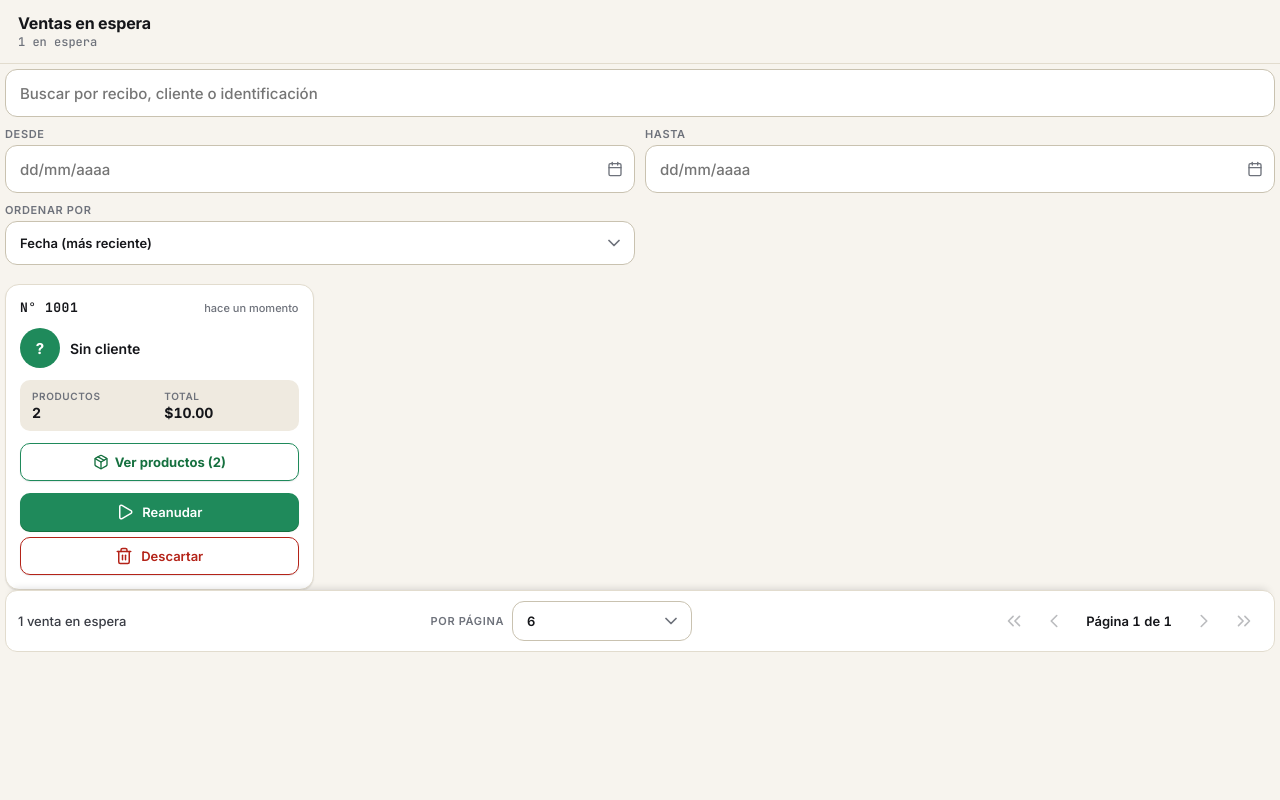
Scenario: StoredCartsScreen — resume guard › sale with items → Cancelar closes the dialog and touches nothing
What coordinates should you click on to do the following:
click the button "Reanudar"
I would click on:
 (159, 512)
Its box is x1=20 y1=493 x2=298 y2=531.
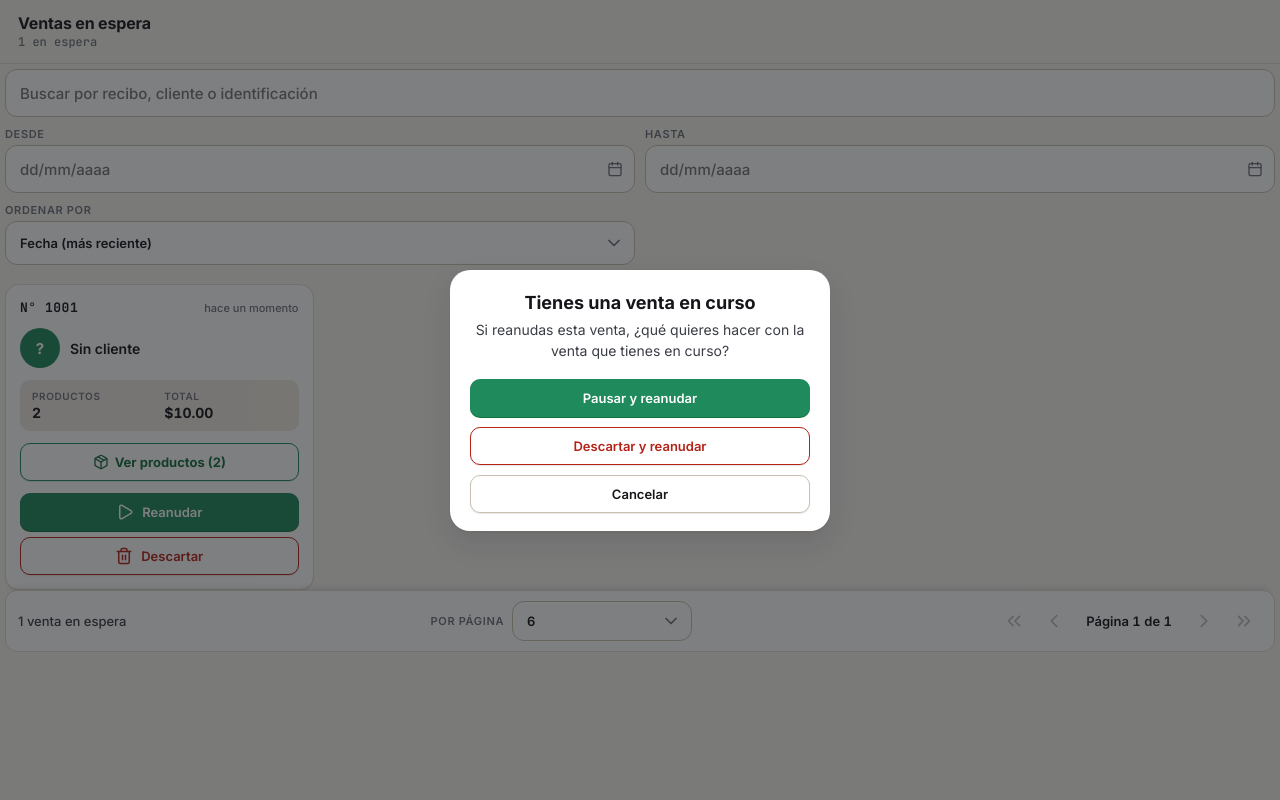
Check: the text "Tienes una venta en curso" is shown, box x1=524 y1=292 x2=756 y2=312
What coordinates should you click on to do the following:
click the button "Cancelar"
I would click on:
 (640, 494)
Its box is x1=470 y1=474 x2=810 y2=512.
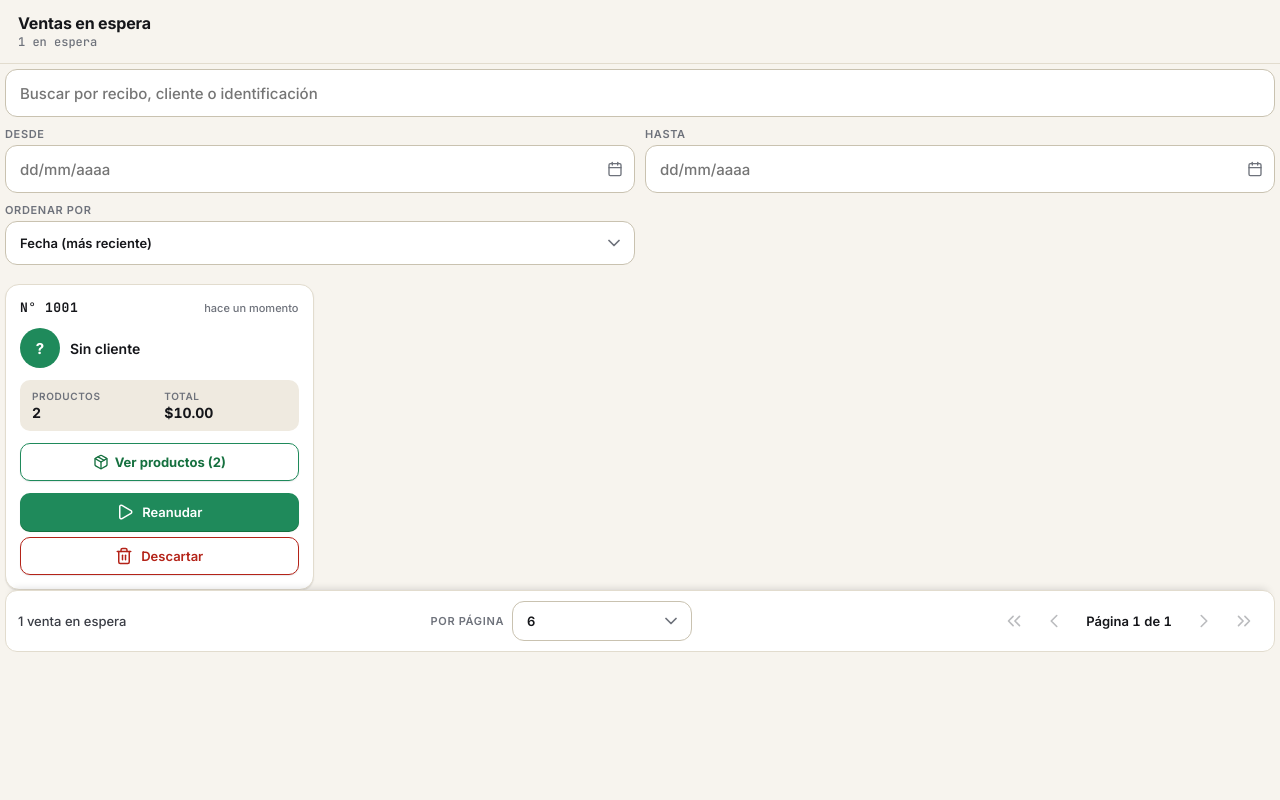
Check: the text "Tienes una venta en curso" is gone
